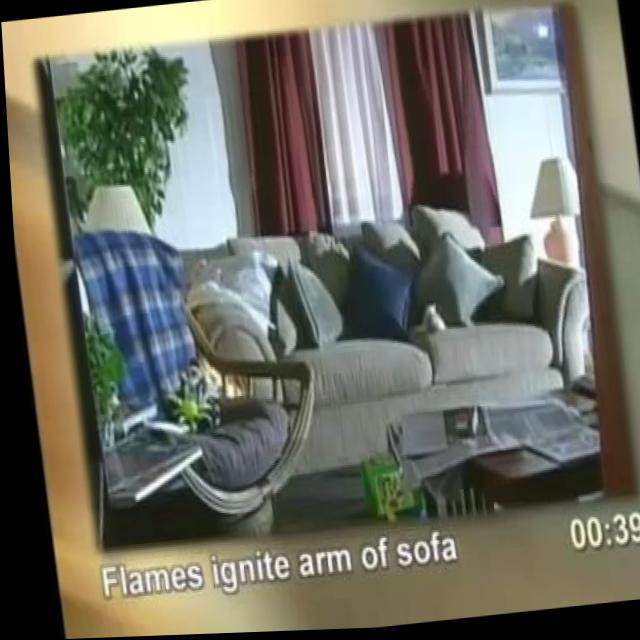fire: (194, 344, 243, 405)
